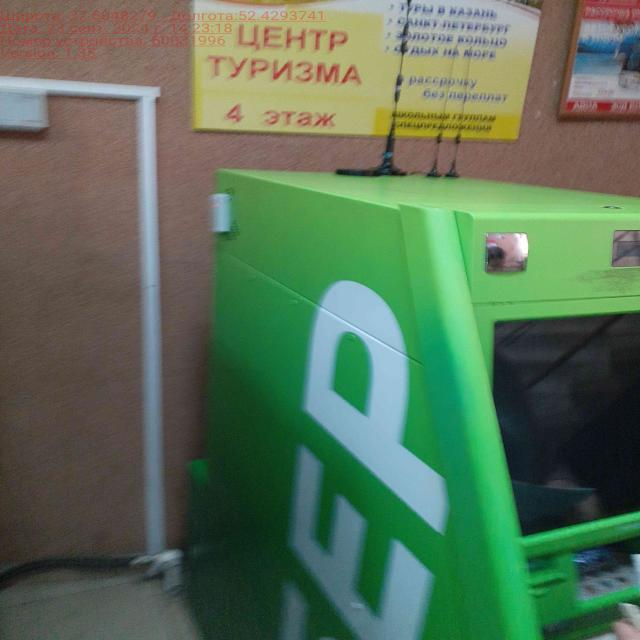bank: (180, 169, 640, 640)
